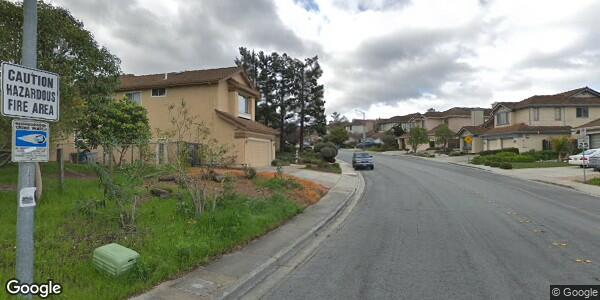Steel_Pole: (5, 2, 58, 282)
